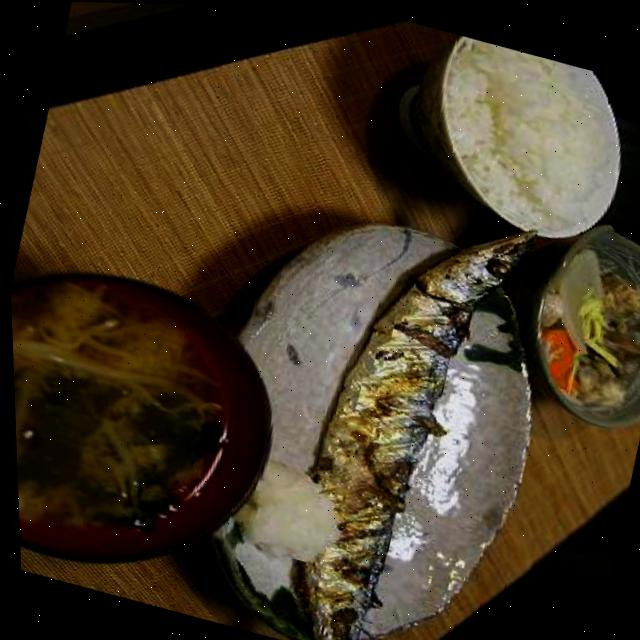熟制海鲜: (258, 168, 564, 640)
